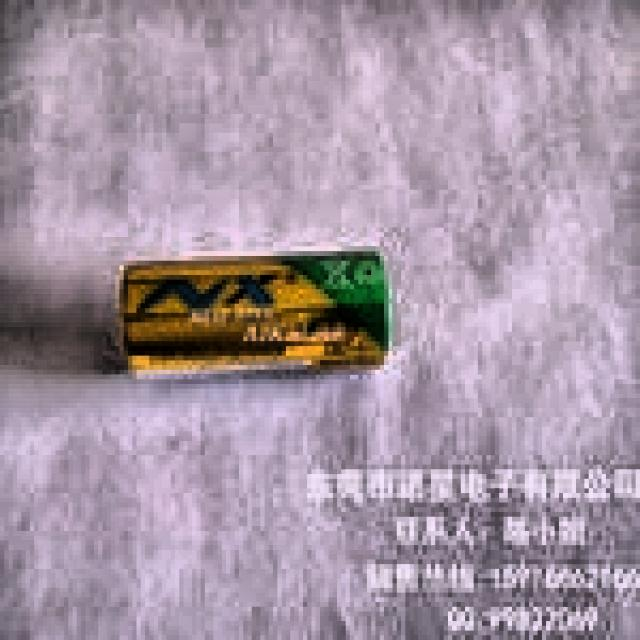Non-Valuable Waste - Batteries: (120, 251, 387, 372)
